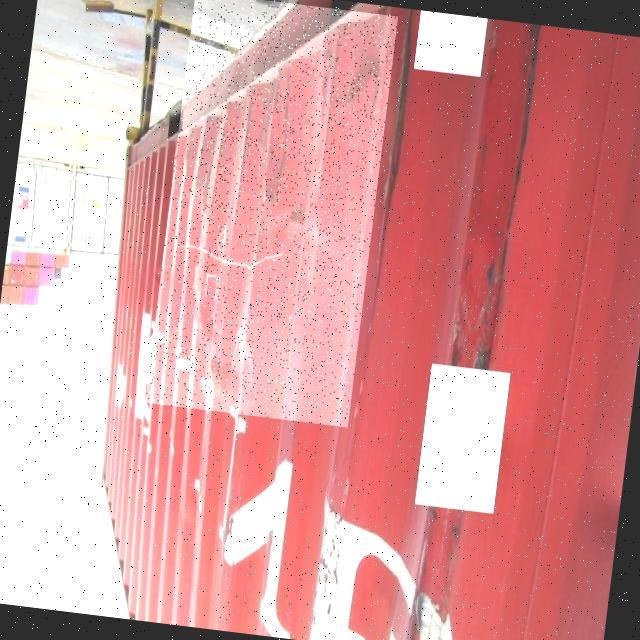Dent: (145, 0, 398, 426)
